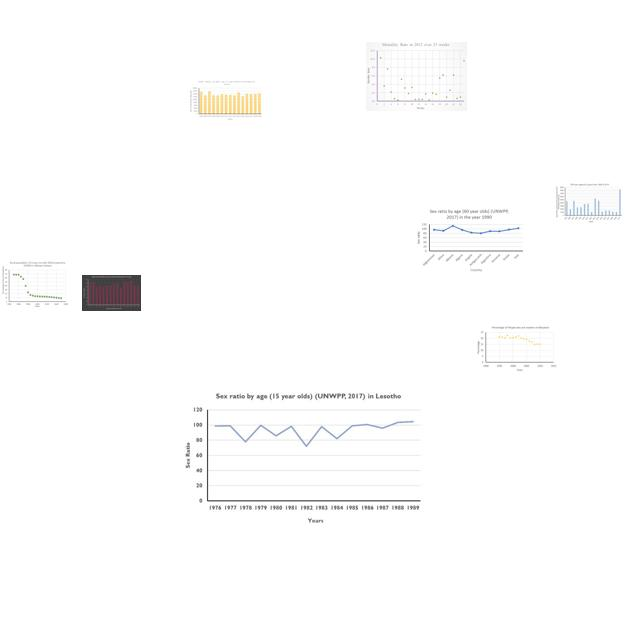Graph: (180, 384, 425, 527), (414, 207, 526, 273), (366, 42, 467, 111), (475, 325, 558, 374), (1, 260, 70, 309), (188, 79, 263, 121), (555, 183, 623, 223), (82, 275, 141, 311)
